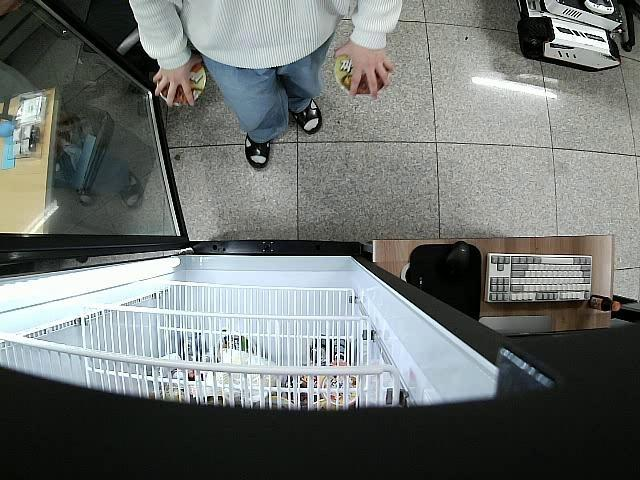03_chapagetti_L: (332, 48, 386, 96), (157, 61, 207, 104)
